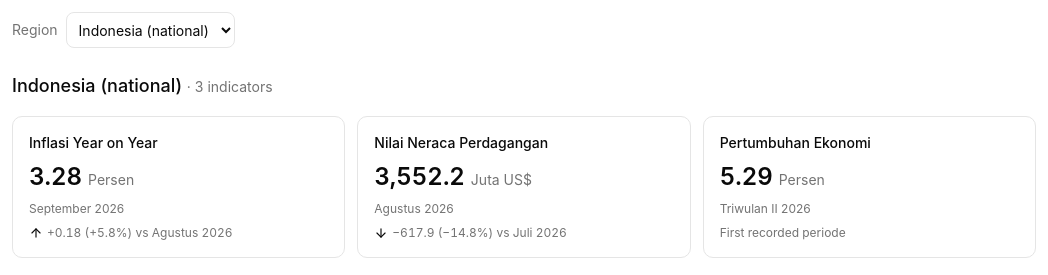
Test: IndicatorsDashboard › lists national + provinces and switches domain via the URL
The image size is (1048, 275).
Select "Aceh" in the dropdown labelled "Region" at (150,30), box [66,12,235,48]
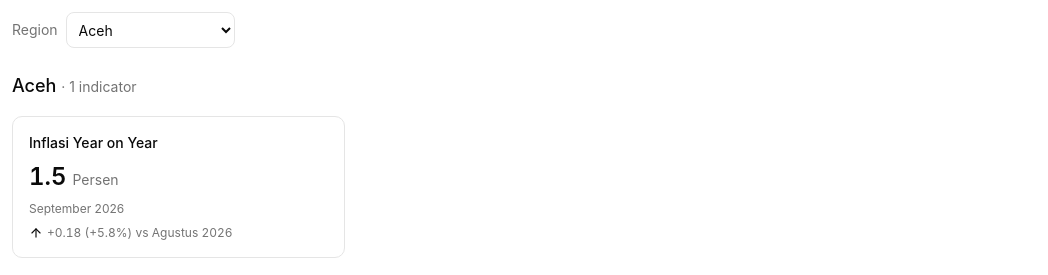
Expected: the button "Inflasi" shows "1.5", [12,116,345,258]
